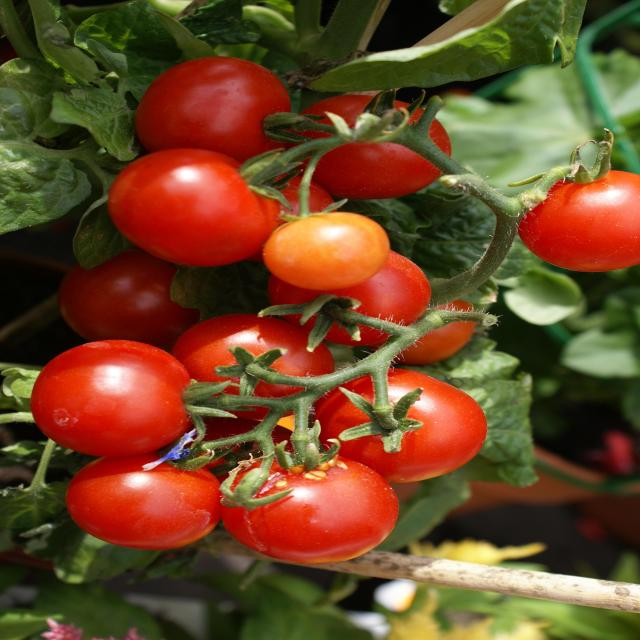Tomato: (108, 149, 431, 325), (222, 456, 399, 564), (31, 340, 192, 456), (339, 369, 487, 482), (136, 56, 291, 161), (67, 451, 222, 550), (57, 249, 199, 350), (519, 170, 640, 271), (315, 389, 371, 442), (343, 376, 375, 404)
